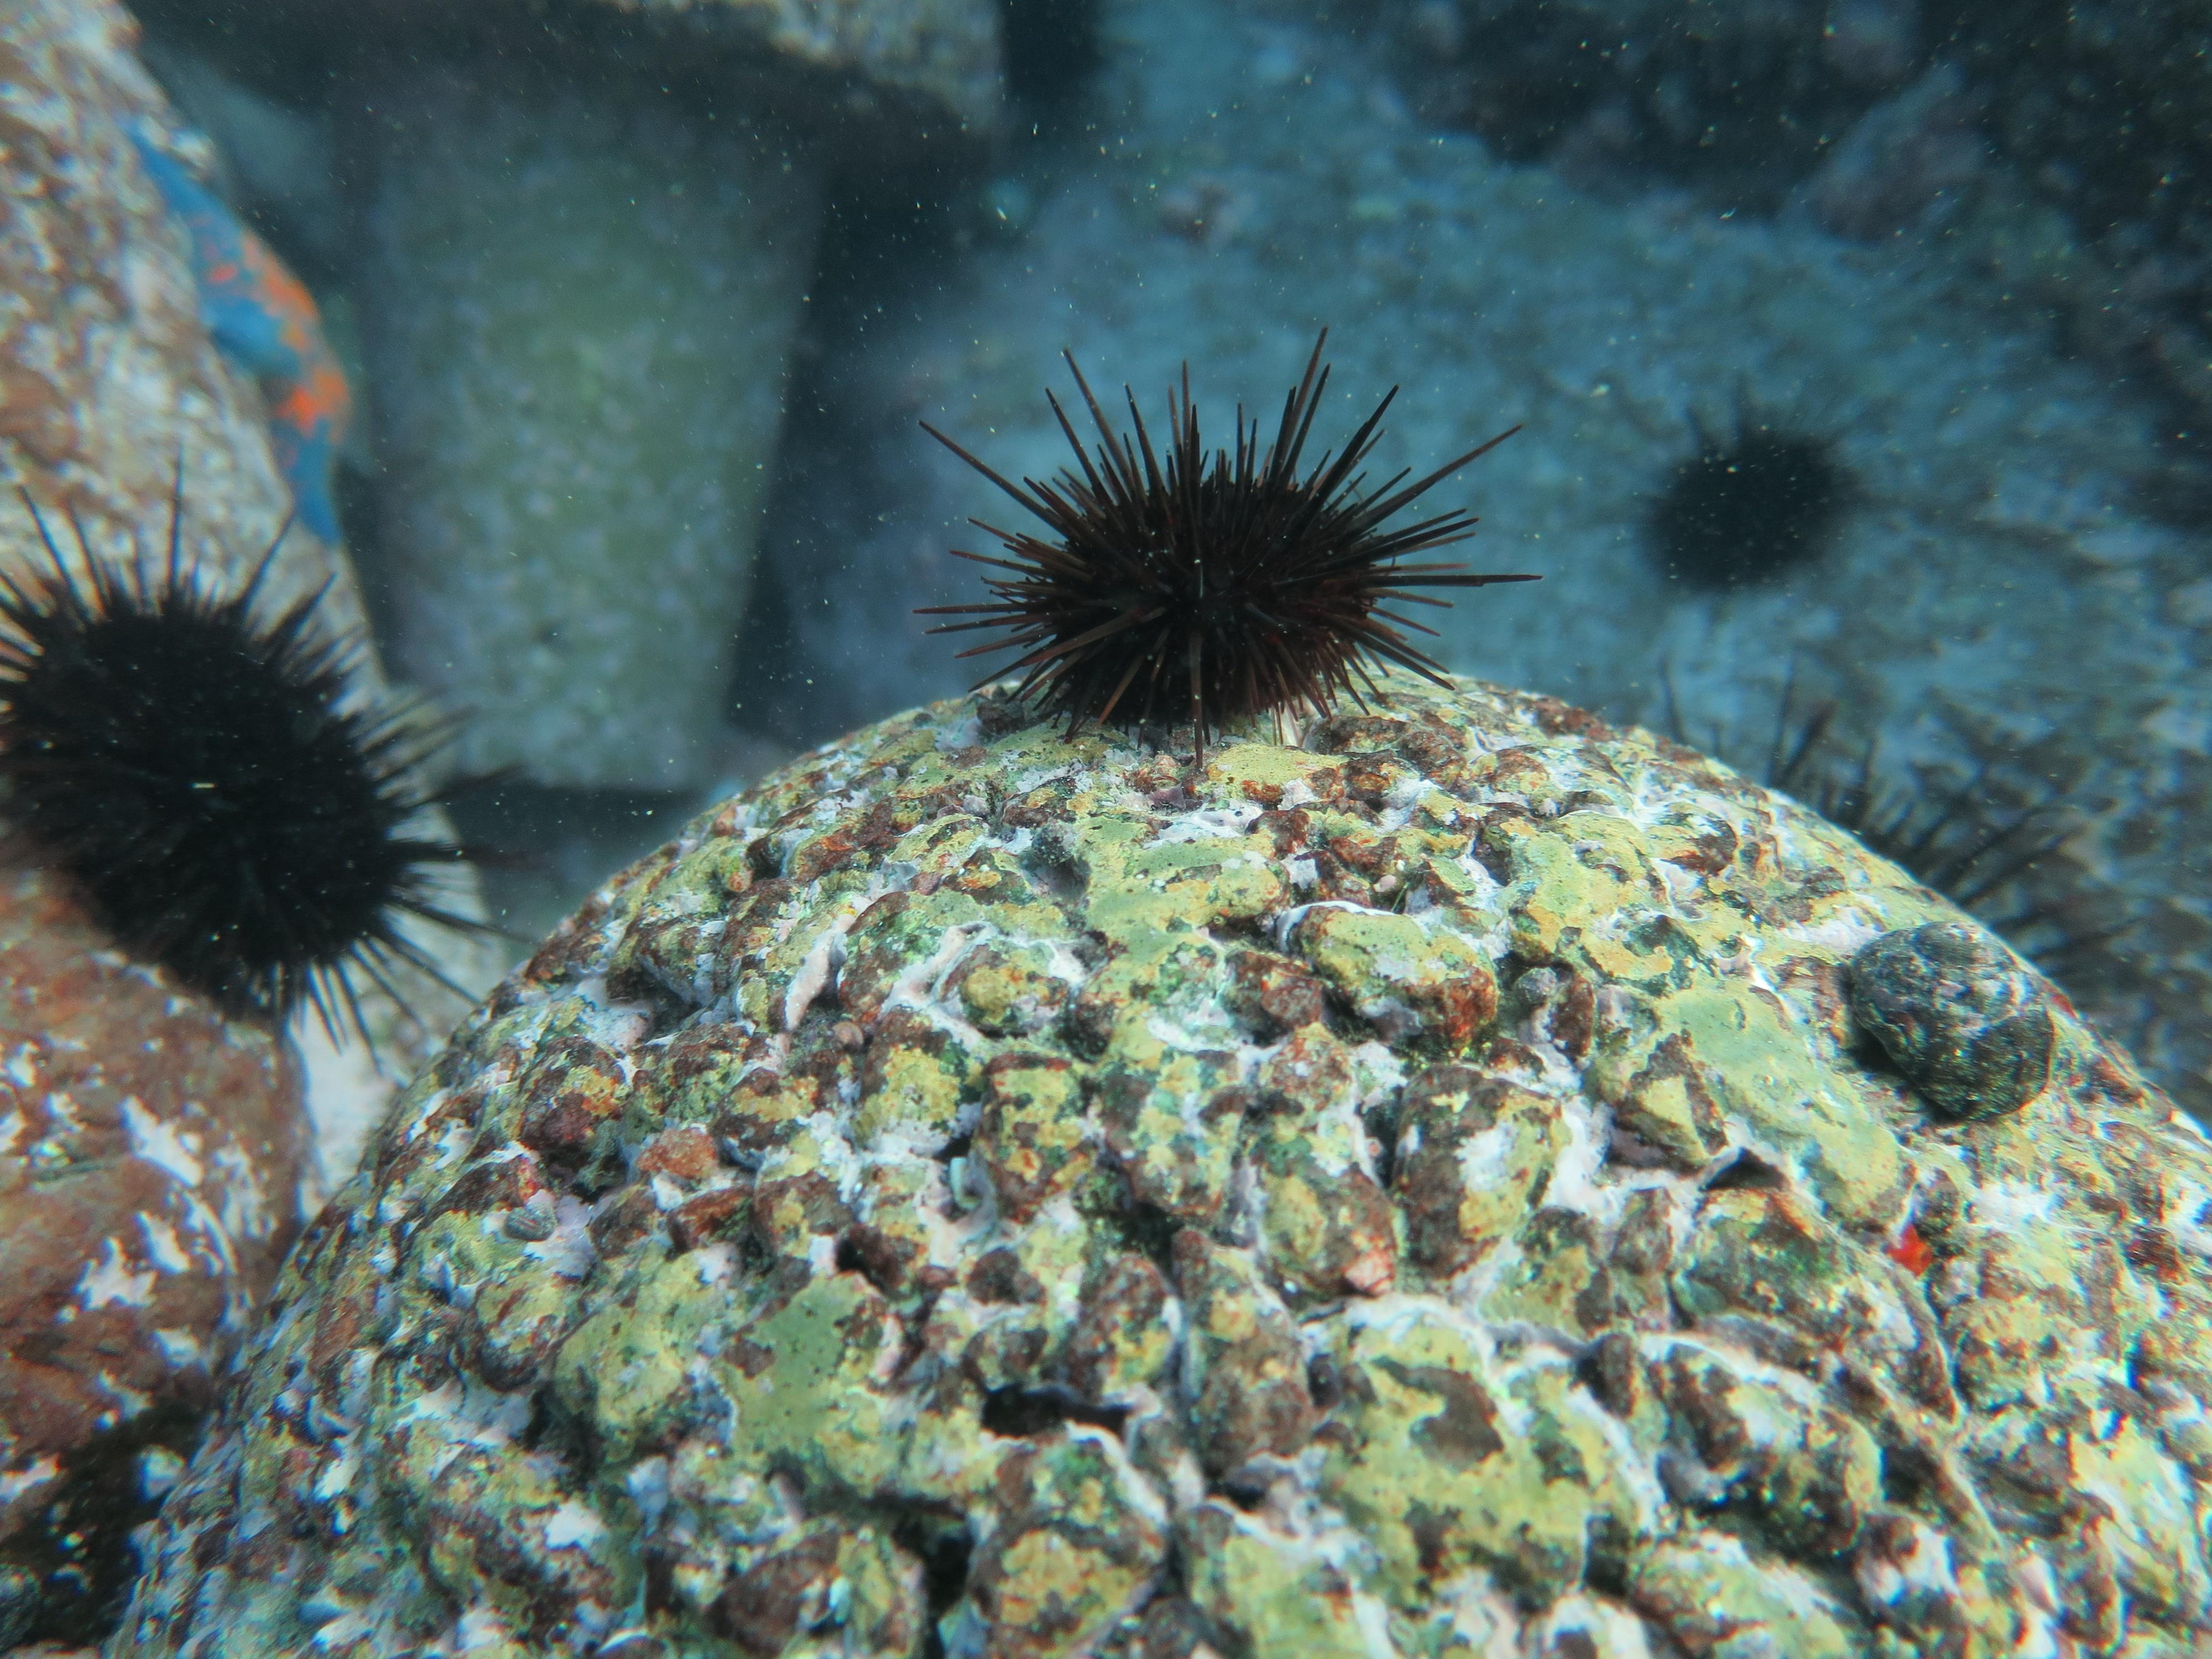urchin: (0, 444, 491, 1080), (930, 315, 1554, 711)
